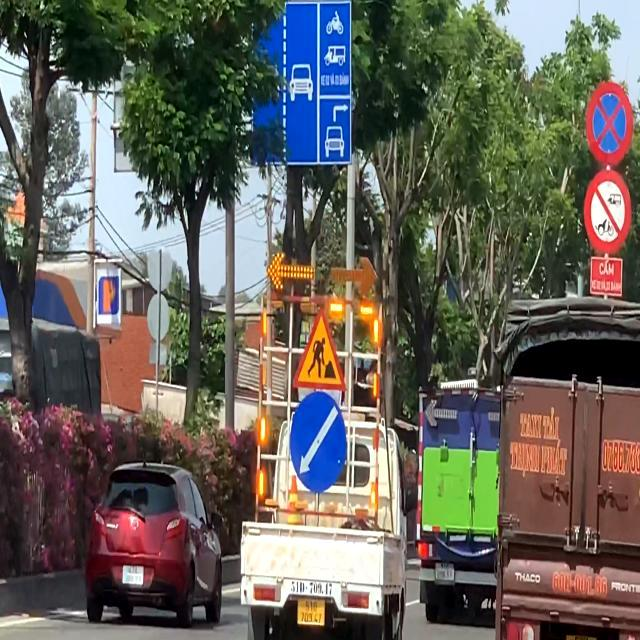Cam dung xe va do xe: (586, 82, 632, 165)
Vong chuong ngai vat sang trai: (290, 391, 348, 494)
